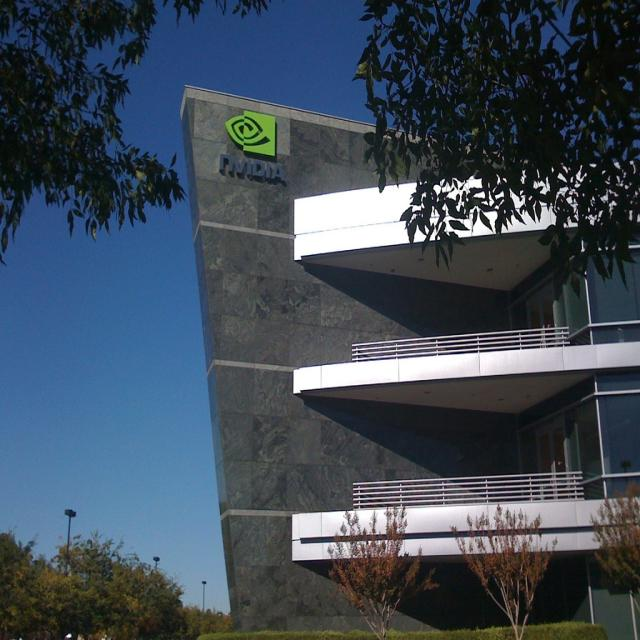nvidia: (226, 111, 277, 157)
